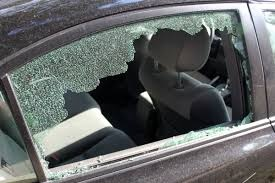Broken-glass: (23, 8, 251, 172)
